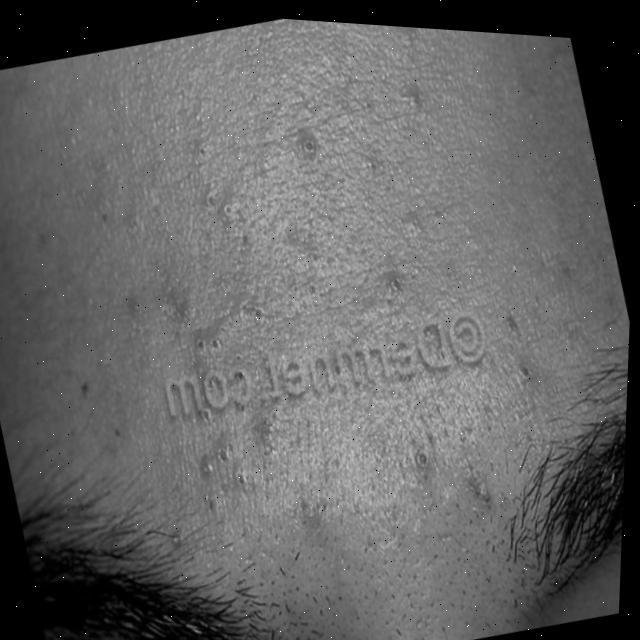Rosacea: (110, 71, 572, 557)
